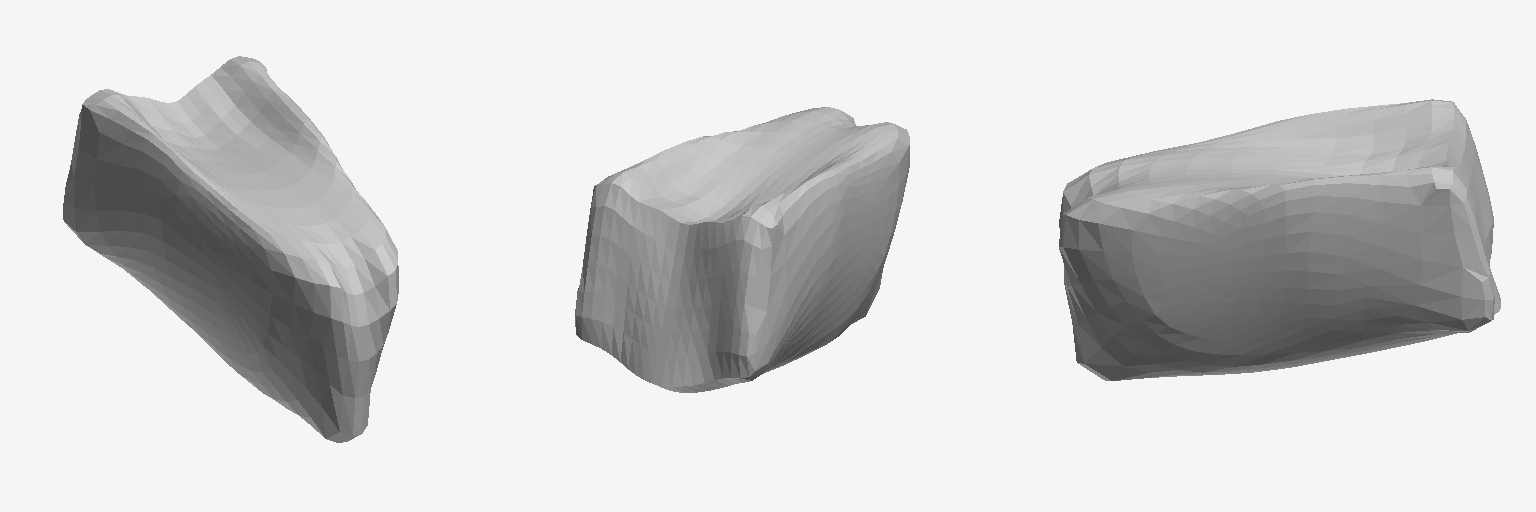
File: vertabrae31.obj
3 views of the same model, side by side, from view 1: azimuth 30°, elevation 25°; view 2: azimuth 150°, elevation 25°; view 3: azimuth 270°, elevation 25° (orthographic).
Visible parts, largest first — view 1: Cube.115_Cube.116; view 2: Cube.115_Cube.116; view 3: Cube.115_Cube.116.
Part boxes in pixels (x1,y1,x2,y2): Cube.115_Cube.116: (63,56,398,442); Cube.115_Cube.116: (575,107,909,392); Cube.115_Cube.116: (1059,99,1500,380).
Size of the model in its own units: 0.0429 by 0.0549 by 0.0901.